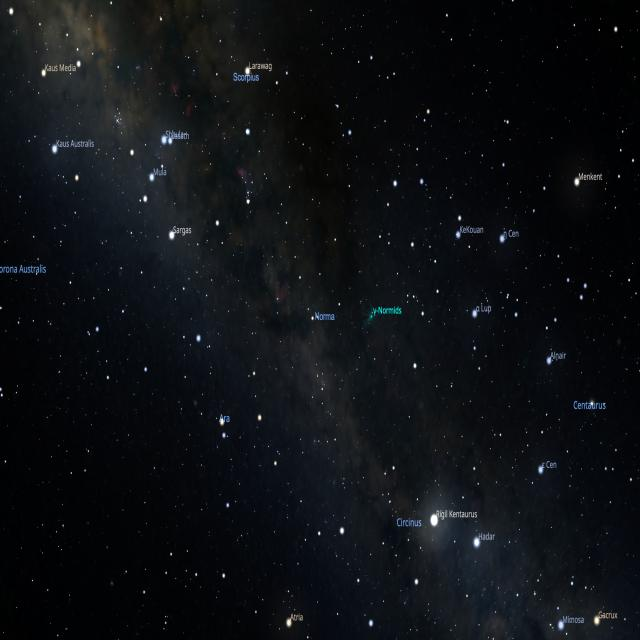Norma: (298, 272, 344, 395)
